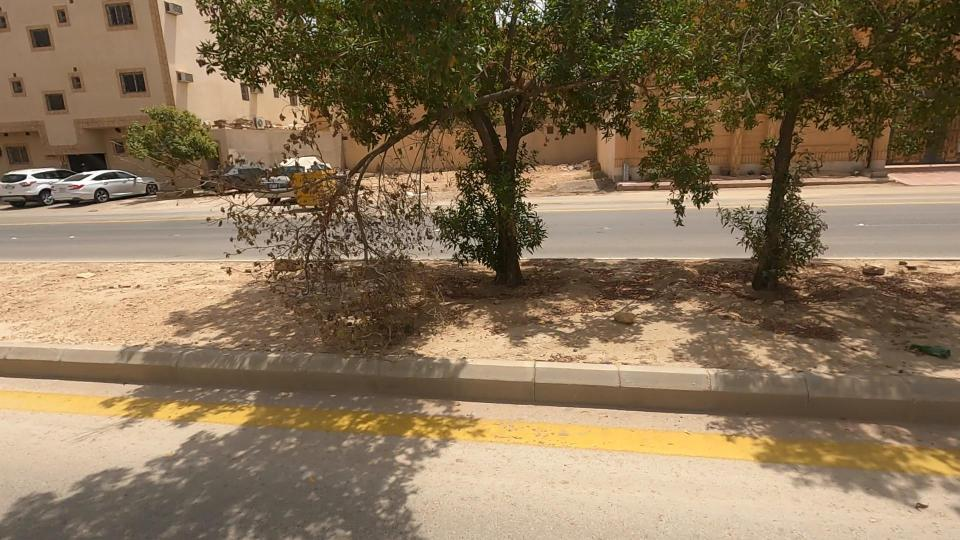CLUTTER_SIDEWALK: (348, 199, 960, 425), (0, 214, 511, 390)
